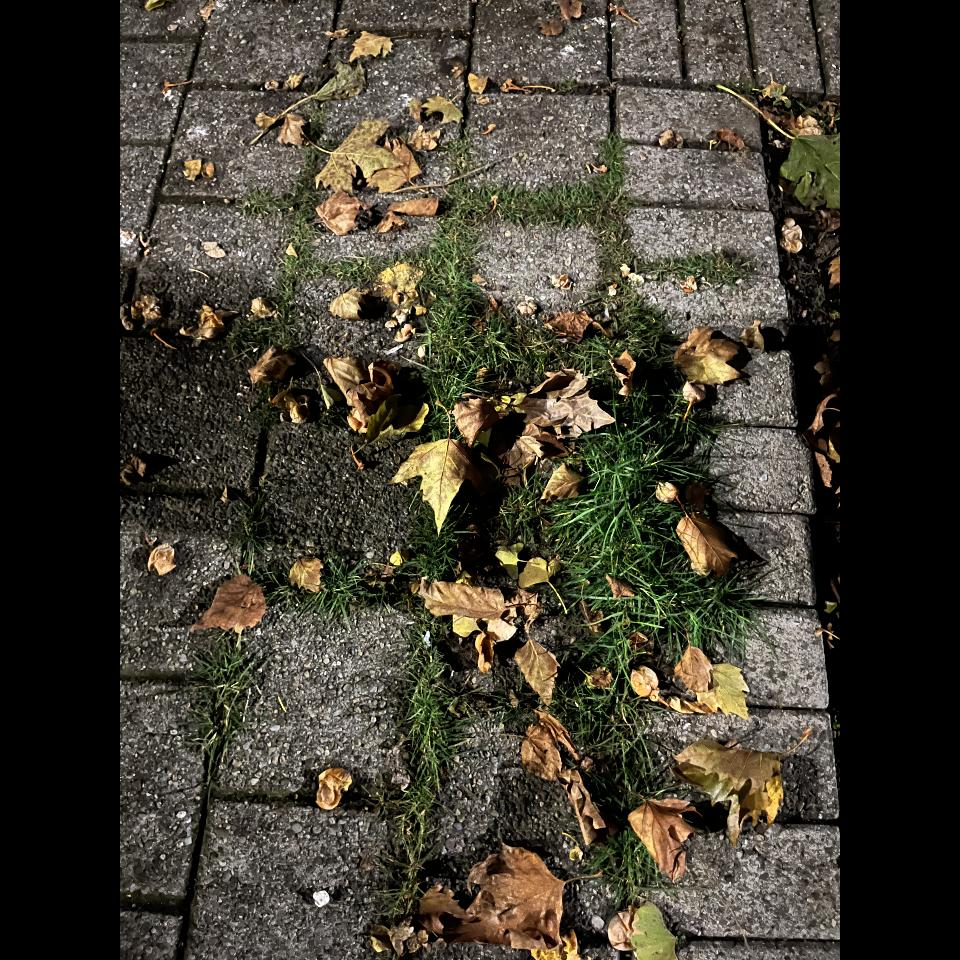weed: (285, 142, 762, 893)
